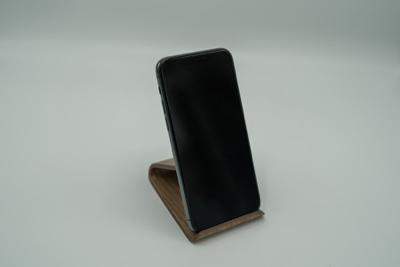Mobile Phone: (154, 46, 264, 234)
